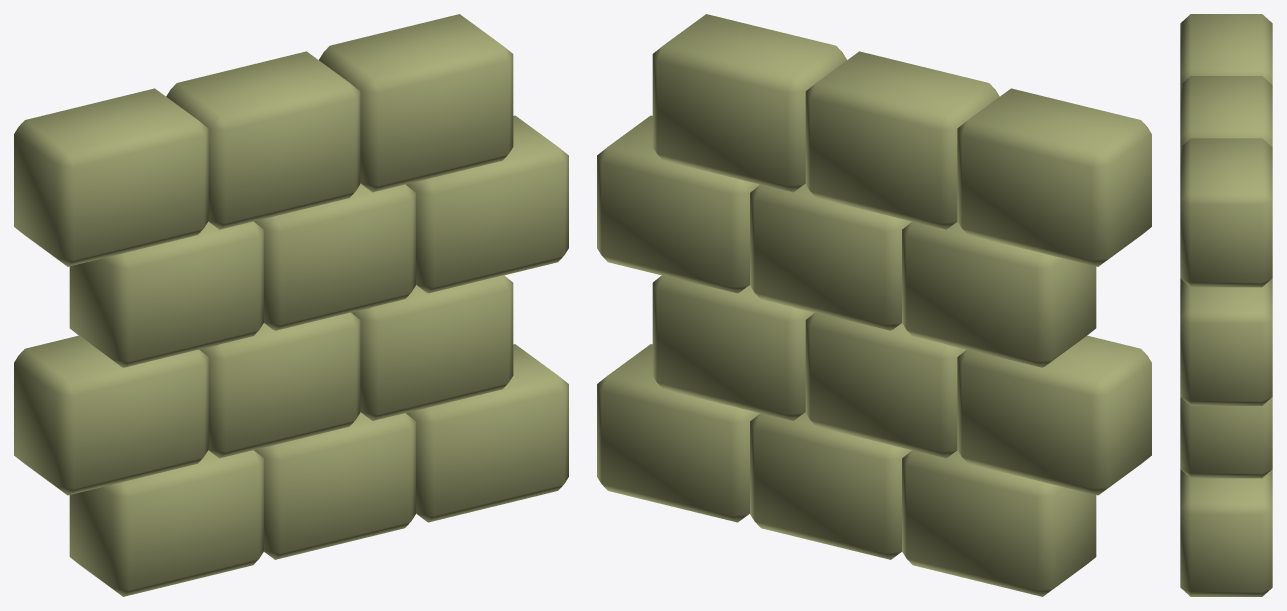
The model's file is brick_wall_3_destroy.fbx.
3 renders of one model, left to right at view 1: azimuth 30°, elevation 25°; view 2: azimuth 150°, elevation 25°; view 3: azimuth 270°, elevation 25°, orthographic. The views are drawn at different scales.
Parts seen in each view (by area): view 1: brick_wall_3_destroy.009, brick_wall_3_destroy.003, brick_wall_3_destroy.011, brick_wall_3_destroy.010, brick_wall_3_destroy.001, brick_wall_3_destroy.006, brick_wall_3_destroy.002, brick_wall_3_destroy.008, brick_wall_3_destroy.005, brick_wall_3_destroy, brick_wall_3_destroy.007, brick_wall_3_destroy.004; view 2: brick_wall_3_destroy.009, brick_wall_3_destroy.003, brick_wall_3_destroy.011, brick_wall_3_destroy.010, brick_wall_3_destroy.001, brick_wall_3_destroy.006, brick_wall_3_destroy.002, brick_wall_3_destroy.008, brick_wall_3_destroy.005, brick_wall_3_destroy, brick_wall_3_destroy.007, brick_wall_3_destroy.004; view 3: brick_wall_3_destroy.011, brick_wall_3_destroy.002, brick_wall_3_destroy.008, brick_wall_3_destroy.005, brick_wall_3_destroy.010, brick_wall_3_destroy.009.
Part boxes in pixels (x1,y1,x2,y2): brick_wall_3_destroy.009: (14, 88, 208, 266); brick_wall_3_destroy.003: (14, 335, 208, 495); brick_wall_3_destroy.011: (319, 14, 513, 192); brick_wall_3_destroy.010: (166, 51, 360, 229); brick_wall_3_destroy.001: (69, 450, 263, 596); brick_wall_3_destroy.006: (69, 221, 263, 367); brick_wall_3_destroy.002: (406, 344, 568, 522); brick_wall_3_destroy.008: (406, 115, 568, 293); brick_wall_3_destroy.005: (351, 275, 513, 420); brick_wall_3_destroy: (254, 412, 415, 559); brick_wall_3_destroy.007: (254, 184, 415, 330); brick_wall_3_destroy.004: (199, 312, 360, 458); brick_wall_3_destroy.009: (957, 88, 1151, 266); brick_wall_3_destroy.003: (957, 335, 1151, 495); brick_wall_3_destroy.011: (652, 14, 846, 192); brick_wall_3_destroy.010: (805, 51, 999, 229); brick_wall_3_destroy.001: (902, 450, 1096, 596); brick_wall_3_destroy.006: (902, 221, 1096, 367); brick_wall_3_destroy.002: (597, 344, 759, 522); brick_wall_3_destroy.008: (597, 115, 759, 293); brick_wall_3_destroy.005: (652, 275, 814, 420); brick_wall_3_destroy: (750, 412, 911, 559); brick_wall_3_destroy.007: (750, 184, 911, 330); brick_wall_3_destroy.004: (805, 312, 966, 458); brick_wall_3_destroy.011: (1180, 138, 1272, 287); brick_wall_3_destroy.002: (1180, 469, 1272, 596); brick_wall_3_destroy.008: (1180, 278, 1272, 405); brick_wall_3_destroy.005: (1180, 397, 1272, 478); brick_wall_3_destroy.010: (1180, 76, 1272, 146); brick_wall_3_destroy.009: (1180, 14, 1272, 84).
Bounding box in the file's own units: 415 × 355 × 77.66.
